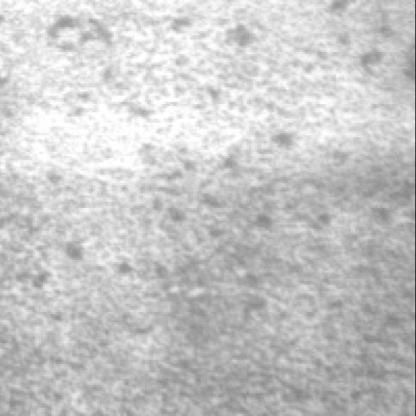pitted_surface: (50, 125, 416, 414), (28, 0, 381, 183)
